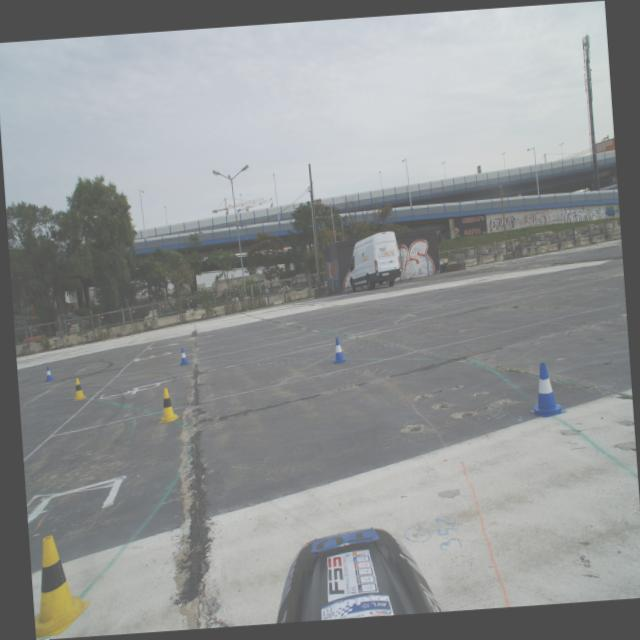blue_cone: (526, 361, 566, 418), (329, 337, 348, 364), (178, 346, 189, 366), (43, 366, 54, 382)
yellow_cone: (29, 532, 93, 637), (156, 388, 180, 422), (70, 377, 86, 401)
